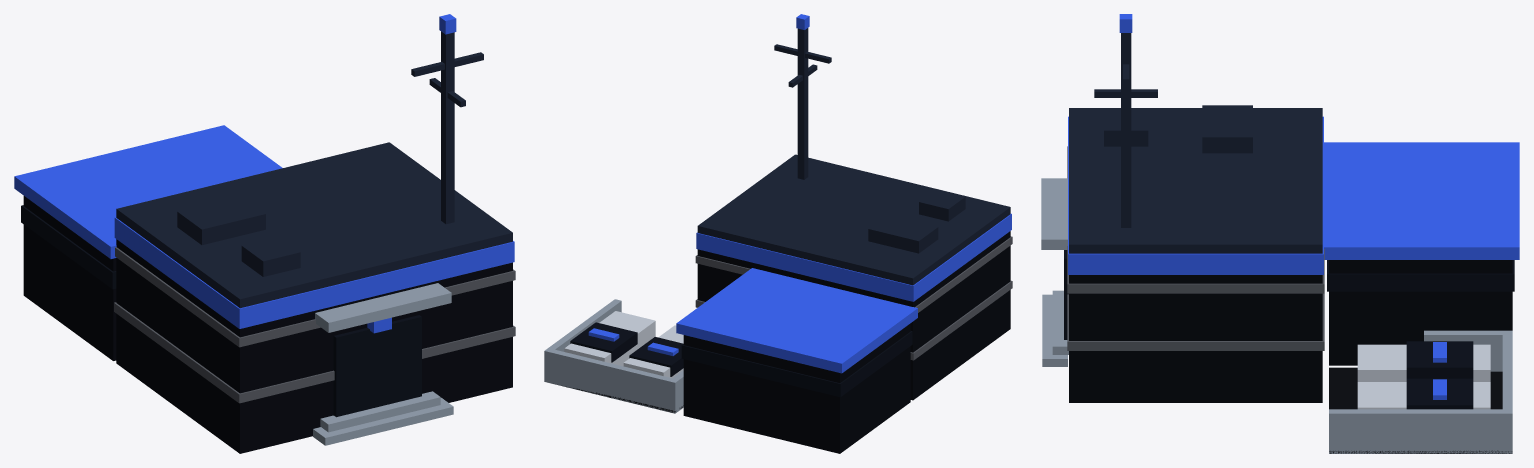
File: policestation.obj
The picture shows the model from 3 angles, left to right: view 1: azimuth 30°, elevation 25°; view 2: azimuth 150°, elevation 25°; view 3: azimuth 270°, elevation 25°; orthographic projection. The views are drawn at different scales.
Parts seen in each view (by area): view 1: station, roof-slab, cells-cap, head-band, mast, cells, entrance-door, station-banding, entrance-steps, entrance-canopy, cells-clerestory, blue-lights; view 2: roof-slab, cells, cells-cap, station, head-band, mast, yard-wall-back, cells-clerestory, patrol-cars, station-banding, car-glazing, yard-wall-east (+1 smaller); view 3: roof-slab, station, cells-cap, cells, yard-wall-east, mast, head-band, station-banding, patrol-cars, car-glazing, cells-clerestory, yard (+5 smaller).
Boxes of the visible parts, x1=… form: station: x1=116, y1=239, x2=512, y2=453; roof-slab: x1=116, y1=142, x2=512, y2=308; cells-cap: x1=14, y1=125, x2=282, y2=258; head-band: x1=114, y1=217, x2=514, y2=328; mast: x1=177, y1=31, x2=483, y2=276; cells: x1=23, y1=196, x2=116, y2=360; entrance-door: x1=333, y1=315, x2=421, y2=417; station-banding: x1=114, y1=247, x2=515, y2=403; entrance-steps: x1=313, y1=391, x2=453, y2=445; entrance-canopy: x1=315, y1=283, x2=451, y2=332; cells-clerestory: x1=21, y1=205, x2=116, y2=289; blue-lights: x1=367, y1=14, x2=456, y2=333; roof-slab: x1=697, y1=154, x2=1010, y2=285; cells: x1=683, y1=323, x2=910, y2=453; cells-cap: x1=676, y1=268, x2=917, y2=373; station: x1=697, y1=231, x2=1010, y2=400; head-band: x1=696, y1=213, x2=1011, y2=301; mast: x1=774, y1=28, x2=965, y2=253; yard-wall-back: x1=544, y1=348, x2=678, y2=413; cells-clerestory: x1=681, y1=331, x2=912, y2=397; patrol-cars: x1=564, y1=311, x2=683, y2=378; station-banding: x1=695, y1=236, x2=1012, y2=360; car-glazing: x1=570, y1=322, x2=683, y2=376; yard-wall-east: x1=545, y1=299, x2=621, y2=352; roof-slab: x1=1069, y1=108, x2=1322, y2=253; station: x1=1069, y1=275, x2=1322, y2=402; cells-cap: x1=1324, y1=142, x2=1519, y2=259; cells: x1=1329, y1=260, x2=1512, y2=365; yard-wall-east: x1=1329, y1=409, x2=1512, y2=453; mast: x1=1094, y1=33, x2=1252, y2=227; head-band: x1=1068, y1=116, x2=1323, y2=274; station-banding: x1=1067, y1=146, x2=1324, y2=350; patrol-cars: x1=1357, y1=344, x2=1490, y2=409; car-glazing: x1=1406, y1=341, x2=1473, y2=409; cells-clerestory: x1=1327, y1=260, x2=1514, y2=291; yard: x1=1329, y1=367, x2=1512, y2=453.
Size of the model in its own units: 7.11 by 6.4 by 7.55.
